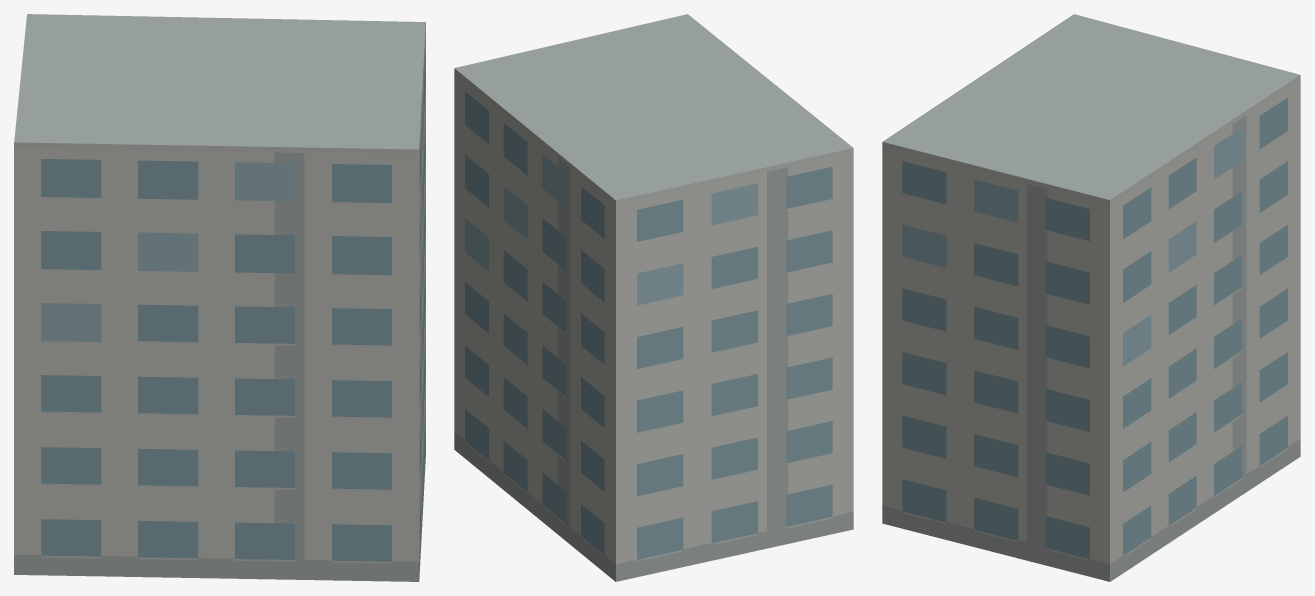
The model's file is survey-upis-33023126.glb.
3 renders of one model, left to right at view 1: azimuth 30°, elevation 25°; view 2: azimuth 150°, elevation 25°; view 3: azimuth 270°, elevation 25°, orthographic. The views are drawn at different scales.
Parts seen in each view (by area): view 1: survey-upis-33023126.tmp; view 2: survey-upis-33023126.tmp; view 3: survey-upis-33023126.tmp.
Part boxes in pixels (box(x1,y1,x2,y2)): survey-upis-33023126.tmp: box(14, 14, 425, 581); survey-upis-33023126.tmp: box(454, 14, 853, 581); survey-upis-33023126.tmp: box(882, 14, 1300, 581).
Bounding box in the file's own units: 20.09 × 19.2 × 19.07.
